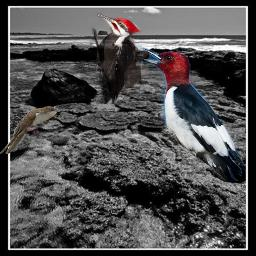Cuckoo: (0, 106, 63, 154)
Woodpecker: (136, 45, 248, 181), (88, 13, 142, 104)
